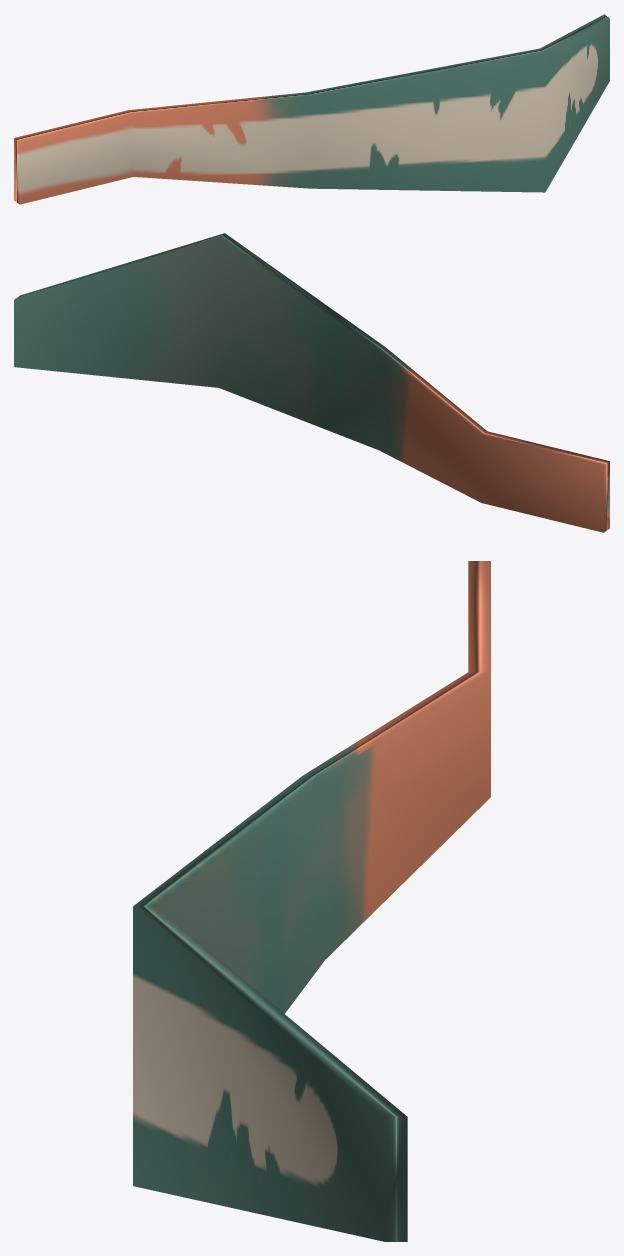
Rendered from Meat_Rabbit.fbx.
The picture shows the model from 3 angles, top to bottom: view 1: azimuth 30°, elevation 25°; view 2: azimuth 150°, elevation 25°; view 3: azimuth 270°, elevation 25°; orthographic projection. The views are drawn at different scales.
Visible parts, largest first — view 1: MeatRabbit:pCube2; view 2: MeatRabbit:pCube2; view 3: MeatRabbit:pCube2.
Boxes of the visible parts, x1,y1,x2,y2 form: MeatRabbit:pCube2: (14, 14, 609, 204); MeatRabbit:pCube2: (14, 233, 609, 532); MeatRabbit:pCube2: (133, 561, 490, 1241).
Size of the model in its own units: 4.47 by 1.05 by 1.22.
Materials: 1 (1 with a texture image).
